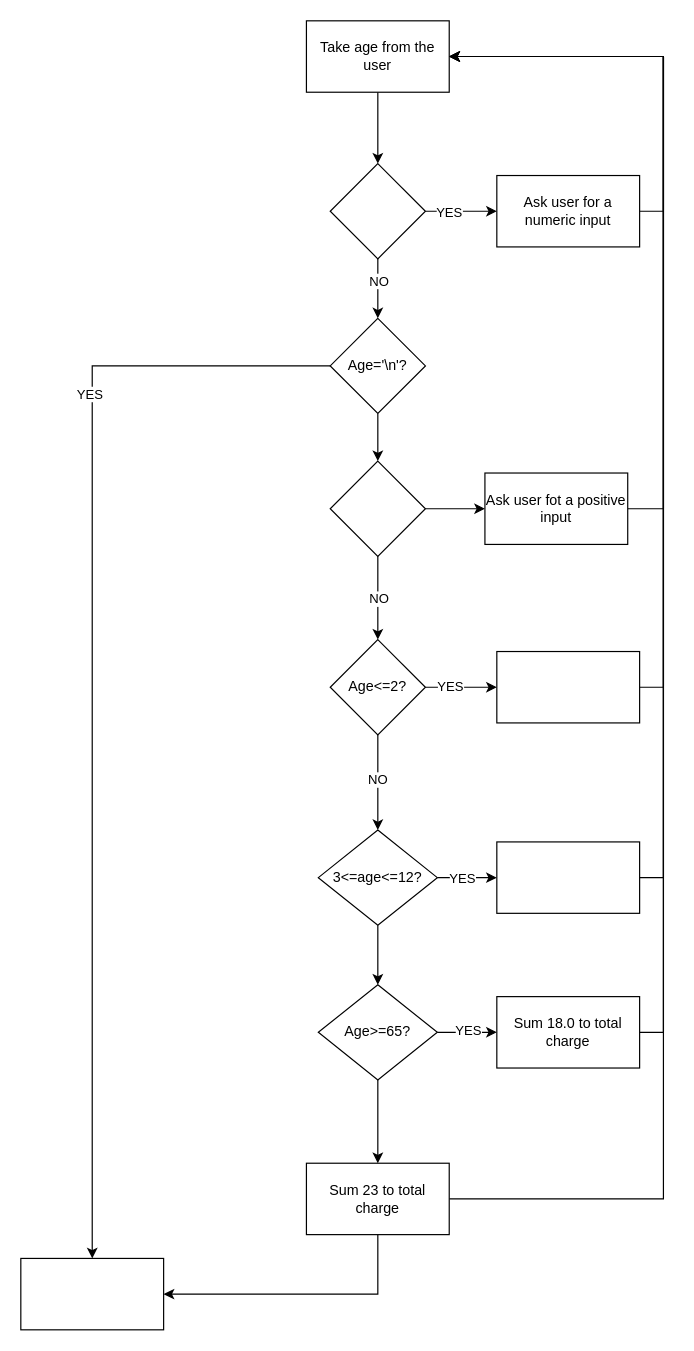
The diagram is 694 pixels wide and 1351 high, and some of its shapes have lost their labels. The shapes that lost their labels are listed below. From the top down, each one's centre as x and y in pixels, then its label:
point (377, 210): Age is literal
point (377, 508): Age<0?
point (568, 686): Sum 0 to total charge
point (568, 877): Sum 14.0 to total charge
point (92, 1293): Print total charge to video
